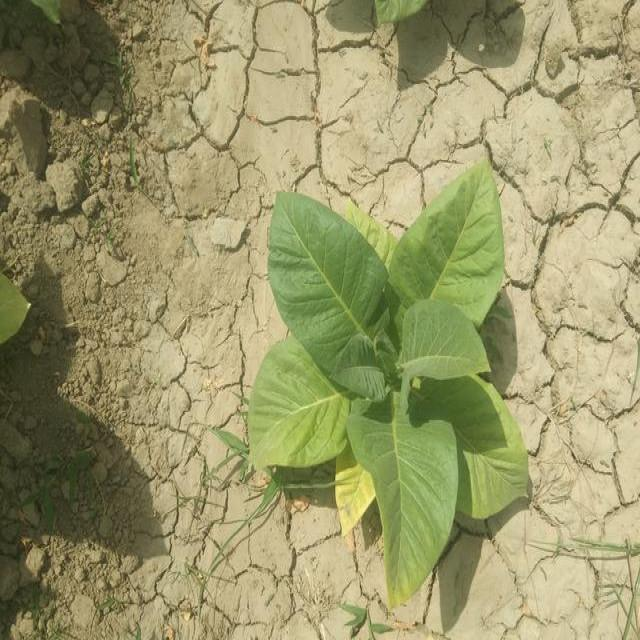crop: (231, 175, 528, 578)
